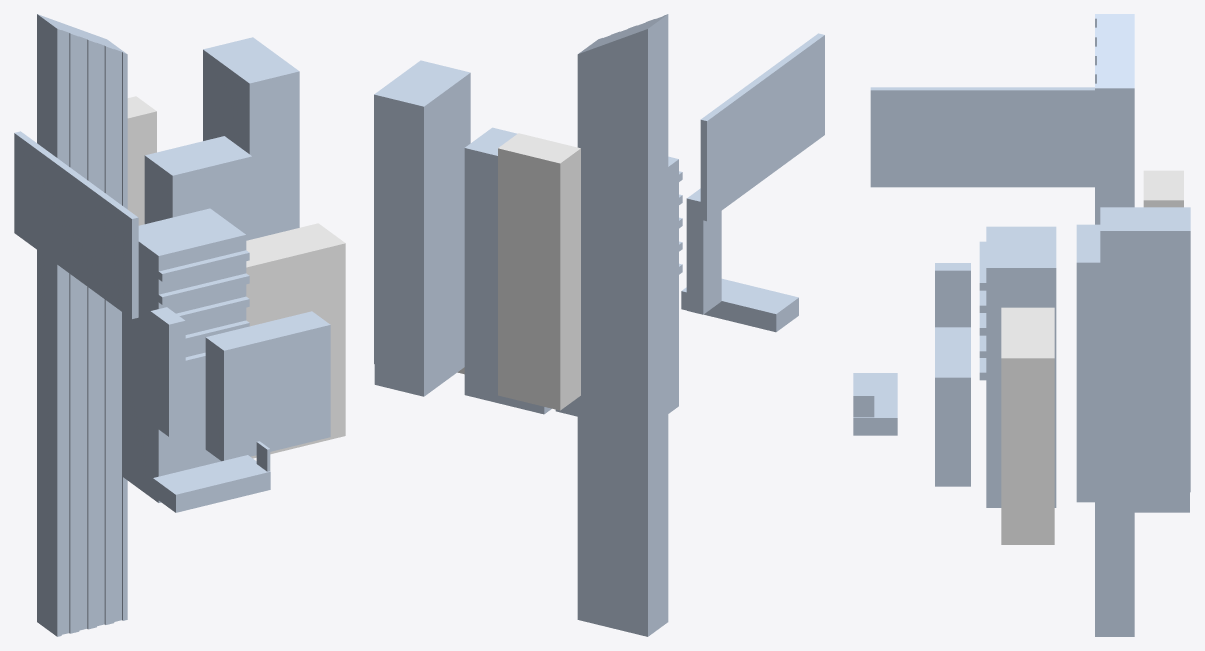
The model's file is buildings.glb.
3 renders of one model, left to right at view 1: azimuth 30°, elevation 25°; view 2: azimuth 150°, elevation 25°; view 3: azimuth 270°, elevation 25°, orthographic. The views are drawn at different scales.
Parts seen in each view (by area): view 1: 立方体.006, 立方体.004, 立方体.007, 立方体.008, 立方体.010, 立方体.005, 立方体.002, 立方体.009, 立方体.013, 立方体.001; view 2: 立方体.006, 立方体.008, 立方体.001, 立方体.010, 立方体.002, 立方体.009, 立方体.013, 立方体.004, 立方体.003; view 3: 立方体.008, 立方体.010, 立方体.006, 立方体.005, 立方体.004, 立方体.002, 立方体.007, 立方体.013, 立方体.009, 立方体.003, 立方体.001, 立方体.012.
Boxes of the visible parts, x1,y1,x2,y2 form: 立方体.006: (37,14,127,636); 立方体.004: (122,208,249,502); 立方体.007: (205,311,330,461); 立方体.008: (203,37,299,239); 立方体.010: (14,131,138,318); 立方体.005: (246,223,345,458); 立方体.002: (144,136,252,240); 立方体.009: (150,307,185,436); 立方体.013: (153,455,270,512); 立方体.001: (127,96,156,225); 立方体.006: (577,14,668,636); 立方体.008: (374,60,470,376); 立方体.001: (498,133,580,410); 立方体.010: (700,33,824,221); 立方体.002: (464,127,551,414); 立方体.009: (686,188,721,314); 立方体.013: (681,278,798,332); 立方体.004: (555,156,682,416); 立方体.003: (374,347,464,396); 立方体.008: (1100,207,1190,492); 立方体.010: (870,87,1094,187); 立方体.006: (1095,14,1134,636); 立方体.005: (1001,307,1054,544); 立方体.004: (979,226,1056,507); 立方体.002: (1076,224,1100,502); 立方体.007: (935,327,970,486); 立方体.013: (853,373,897,435); 立方体.009: (935,263,970,327); 立方体.003: (1100,492,1189,512); 立方体.001: (1143,170,1183,207); 立方体.012: (853,394,874,417).
Bounding box in the file's own units: 1.99 × 4.05 × 2.1.
